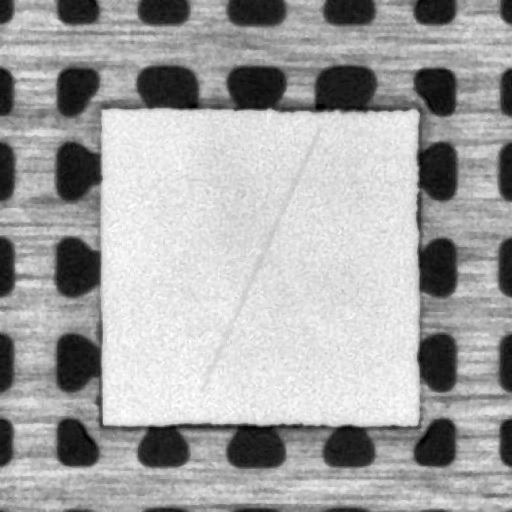DIE_CRACK: (200, 127, 317, 390)
